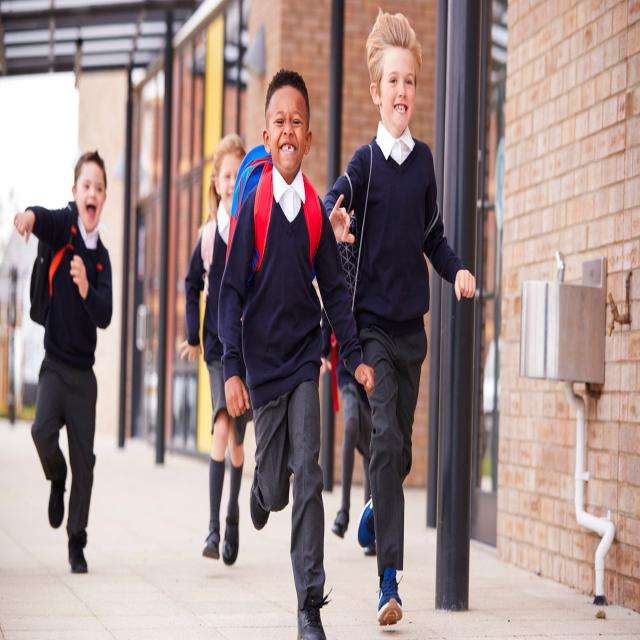Person: (324, 5, 476, 624), (219, 69, 375, 640), (13, 149, 112, 572), (181, 134, 267, 566)
